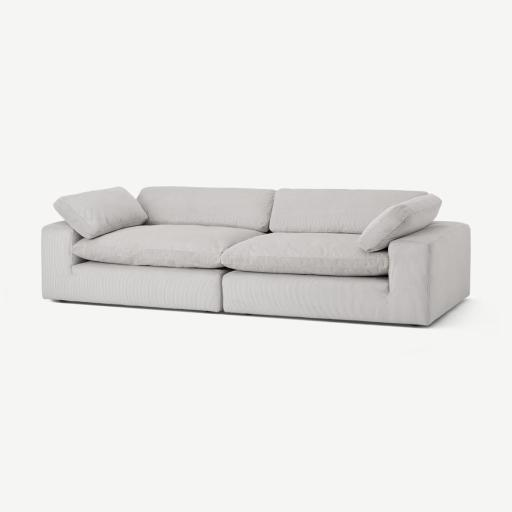back_cushion: (138, 186, 426, 233)
base: (62, 262, 388, 322)
left_arm: (386, 222, 470, 324)
right_arm: (43, 222, 85, 298)
seat_cushion: (72, 225, 389, 276)
two-seater: (0, 0, 511, 512)
